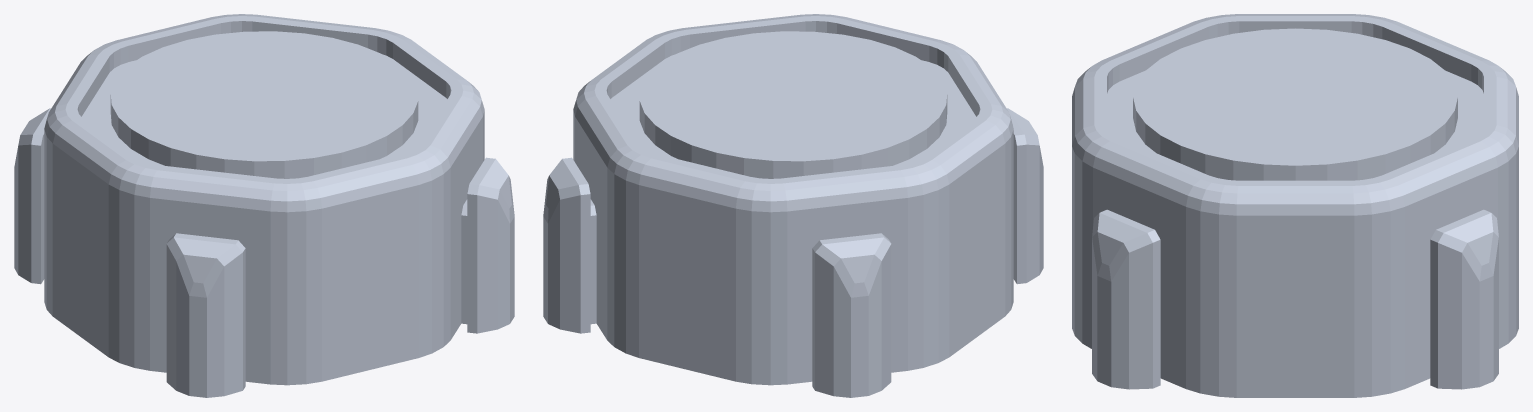
Rendered from Tower_Base.fbx.
3 views of the same model, side by side, from view 1: azimuth 30°, elevation 25°; view 2: azimuth 150°, elevation 25°; view 3: azimuth 270°, elevation 25° (orthographic). The views are drawn at different scales.
Parts seen in each view (by area): view 1: Base Copy; view 2: Base Copy; view 3: Base Copy.
Part boxes in pixels (bbox=[...]): Base Copy: bbox=[14, 14, 514, 397]; Base Copy: bbox=[543, 14, 1043, 397]; Base Copy: bbox=[1072, 14, 1518, 397].
Size of the model in its own units: 100 by 50.95 by 100.
